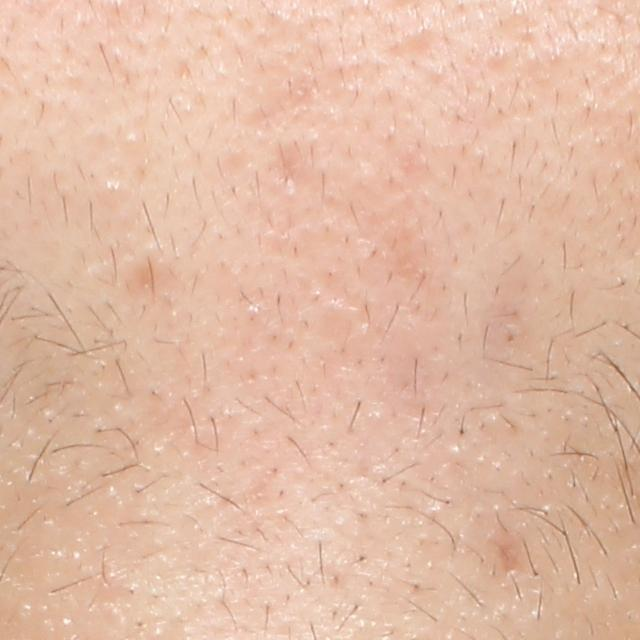comedo: (116, 127, 147, 157), (100, 174, 129, 198)
